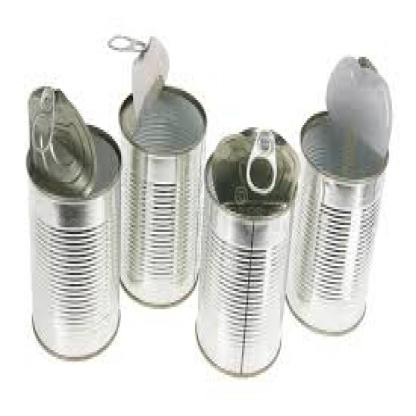METAL: (286, 54, 389, 332), (107, 34, 208, 312), (24, 82, 121, 359), (195, 128, 297, 378), (284, 105, 388, 334), (24, 123, 123, 361), (120, 82, 207, 307), (26, 86, 95, 198), (209, 125, 295, 211), (324, 55, 388, 159), (110, 32, 166, 138), (245, 125, 274, 191)
